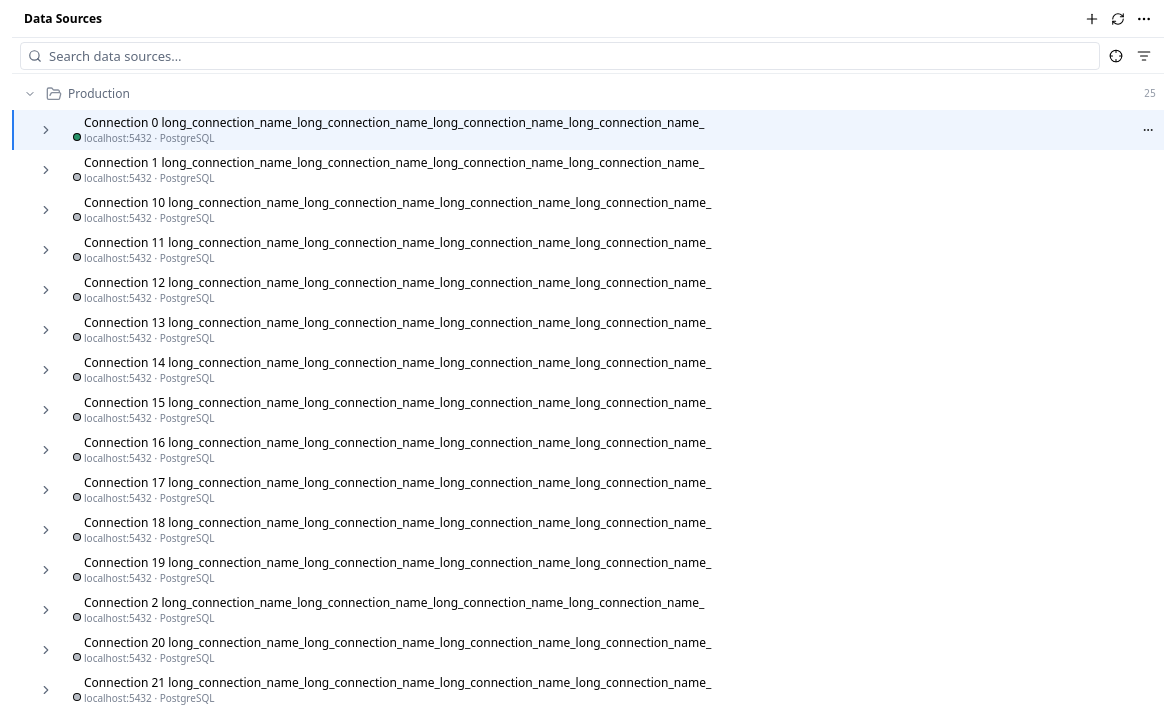
Test: continuous data-source tree › updates the loaded category labels on a language change without fetching again
This screenshot has width=1176, height=715.
Later steps or results of the test are not shown.
Click the 1st button named "Expand Data Source": (46, 130) 36,120 -> 56,140
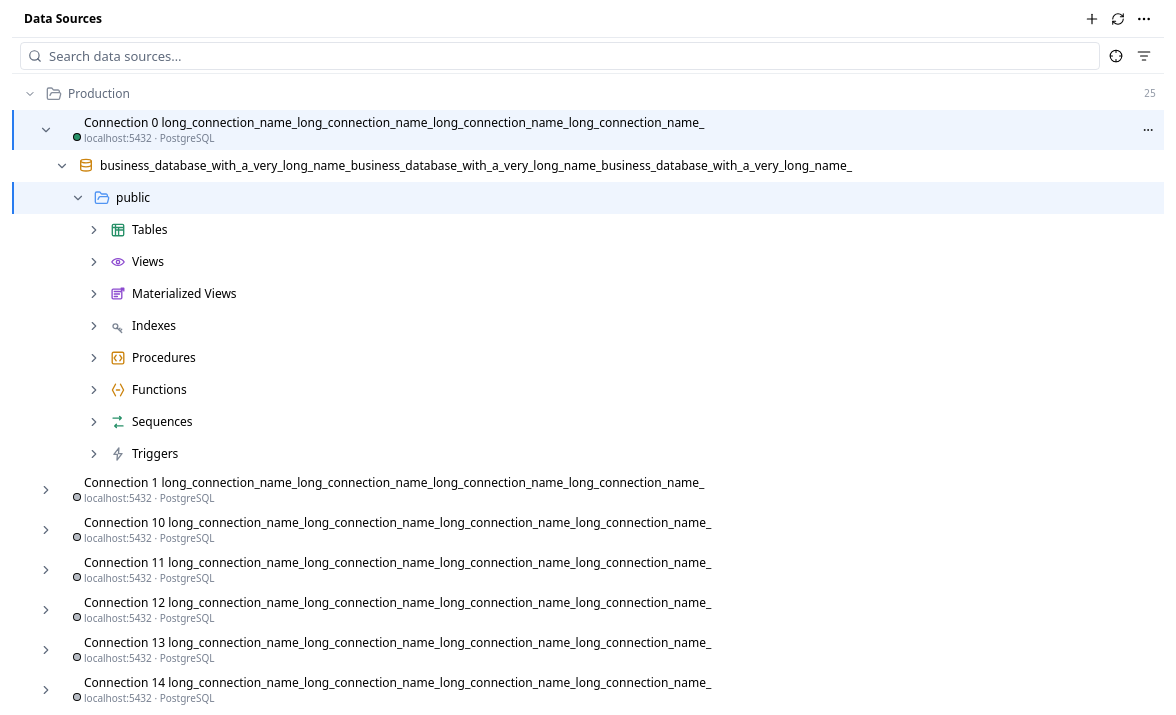
Check: the text "Tables" is shown, box 132,221 -> 167,238
